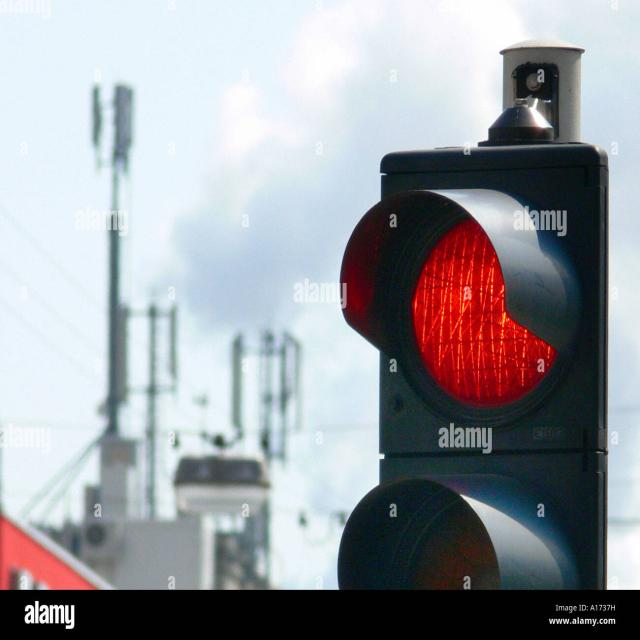red: (355, 198, 546, 430)
